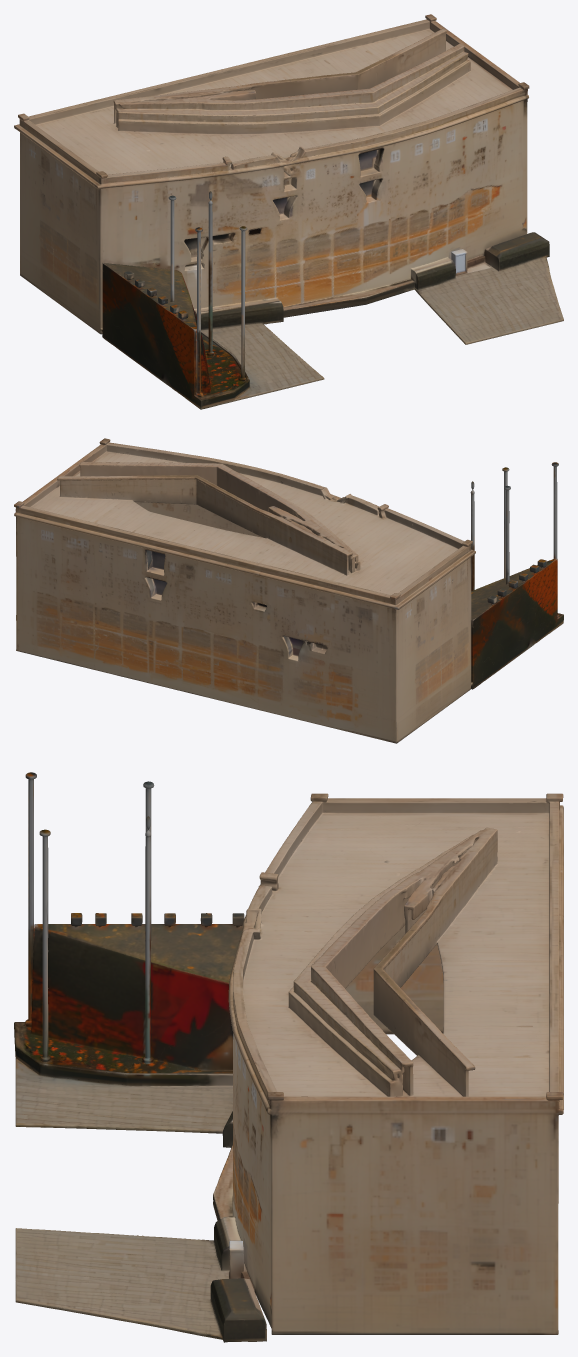
File: 四行仓库.glb
3 renders of one model, top to bottom at view 1: azimuth 30°, elevation 25°; view 2: azimuth 150°, elevation 25°; view 3: azimuth 270°, elevation 25°, orthographic. The views are drawn at different scales.
Visible parts, largest first — view 1: texture_pbr_v128; view 2: texture_pbr_v128; view 3: texture_pbr_v128.
Boxes of the visible parts, box(x1,y1,x2,y2) form: texture_pbr_v128: box(14, 14, 563, 409); texture_pbr_v128: box(14, 438, 563, 743); texture_pbr_v128: box(14, 772, 563, 1342).
Bounding box in the file's own units: 0.83 × 0.3388 × 0.6232.
Materials: 1 (1 with a texture image).
